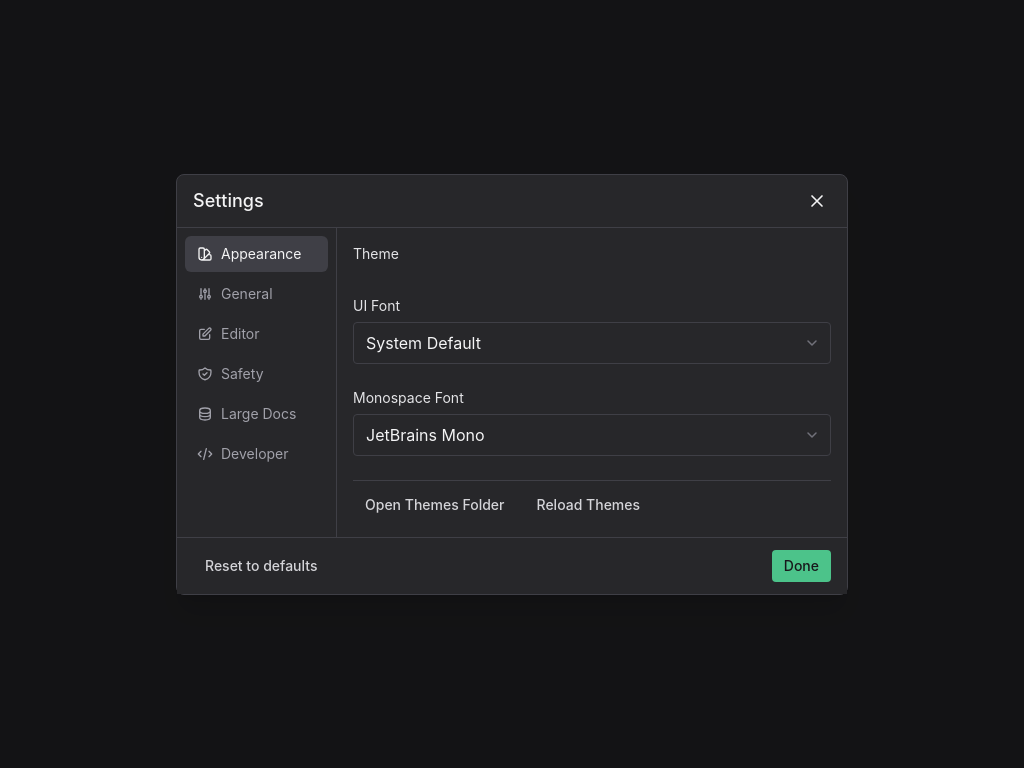
Settings › rendering › renders query limit dropdown with default value on General tab
Click the button "General".
click(256, 294)  # box [185,276,328,312]
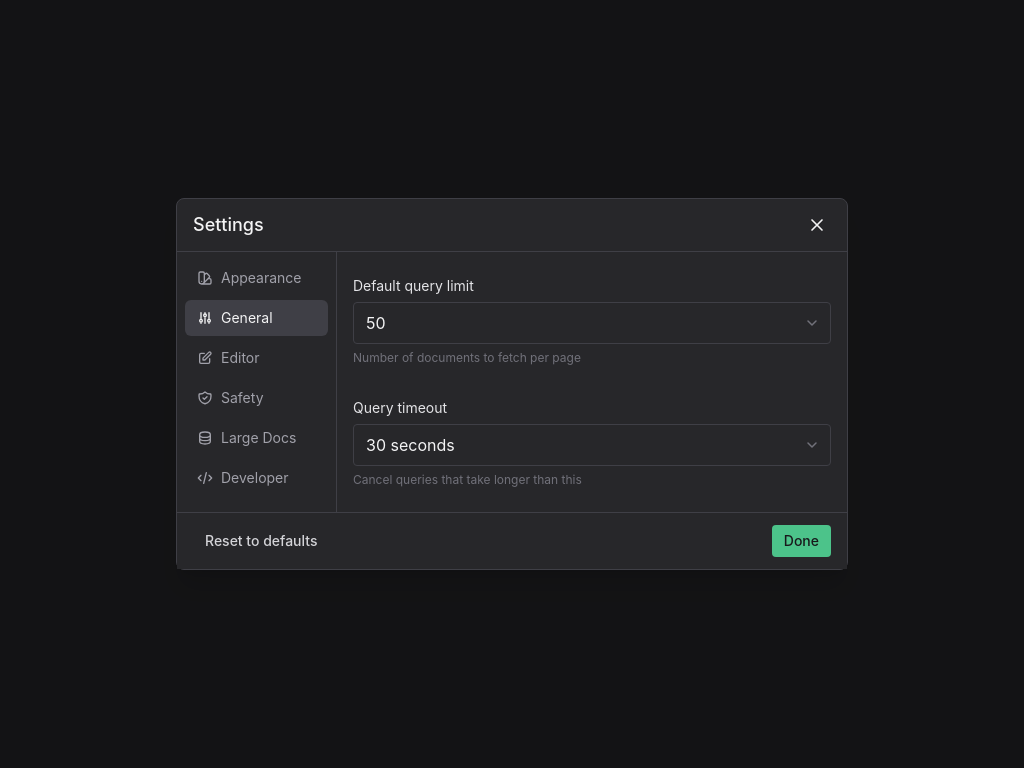
Expected: the text "Default query limit" is shown, [353,277,474,294]
Expected: the dropdown below "Default query limit" shows "50", [353,302,831,344]
